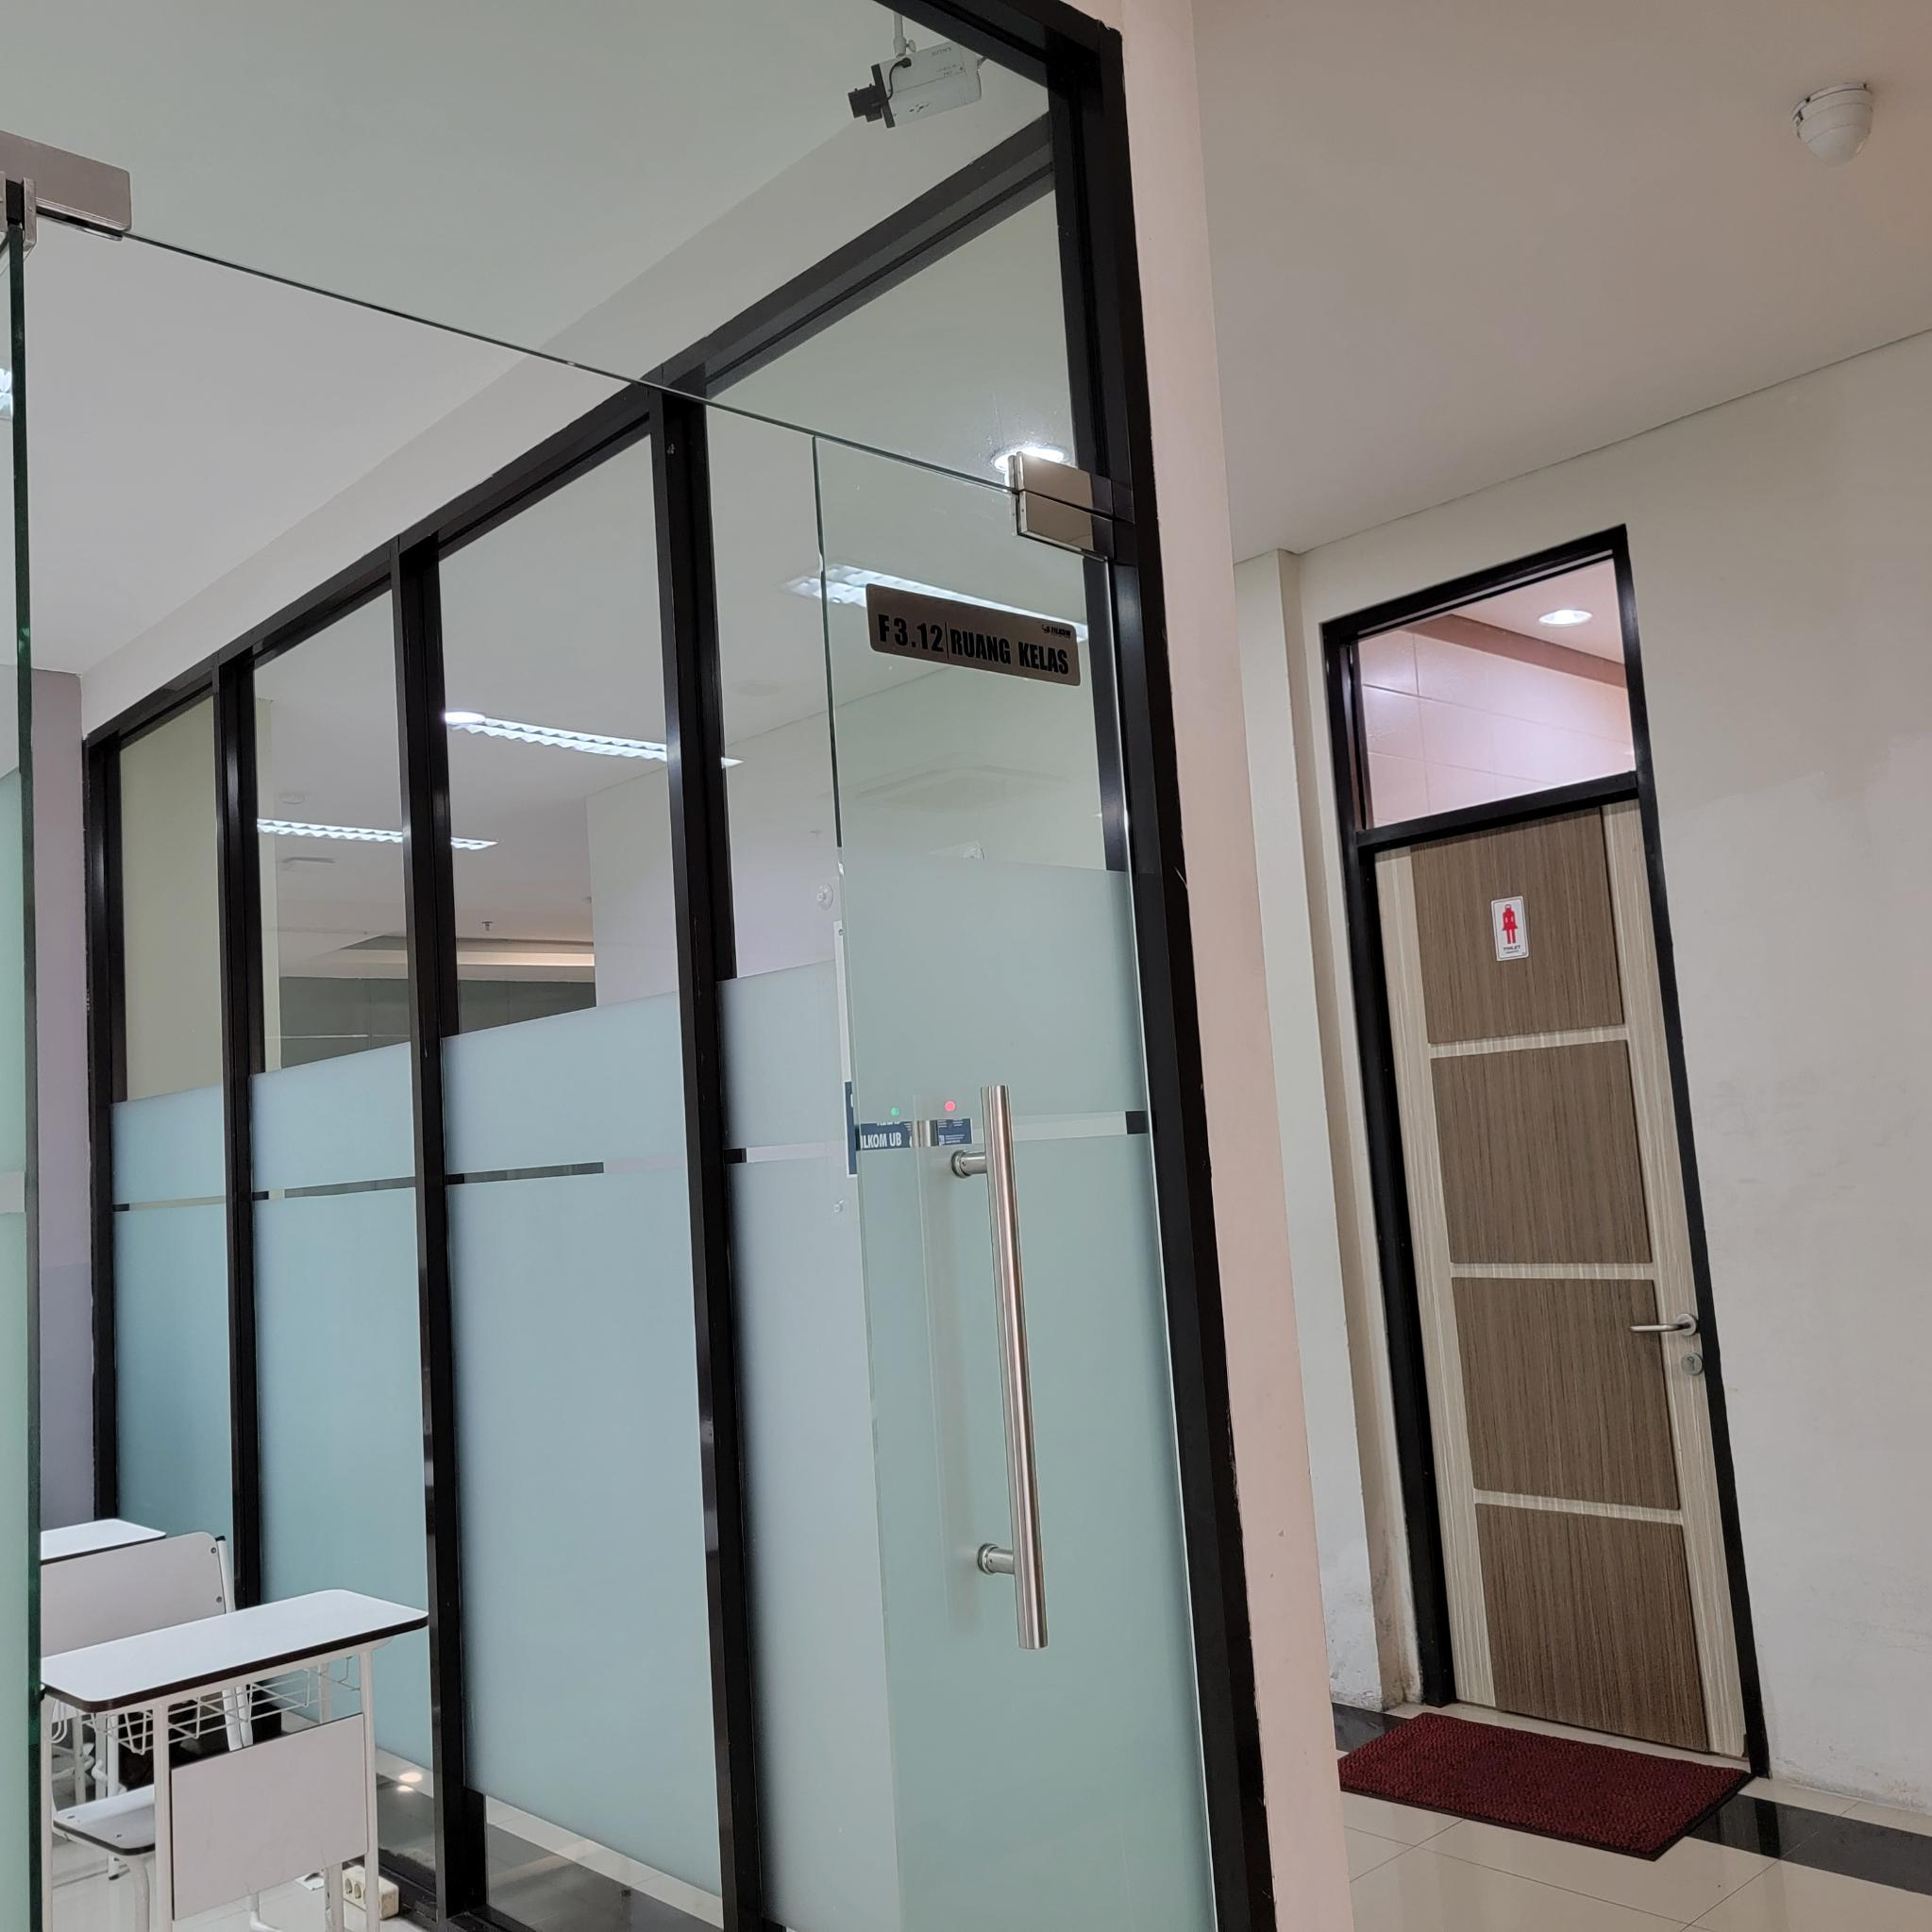plate: (865, 580, 1081, 688)
